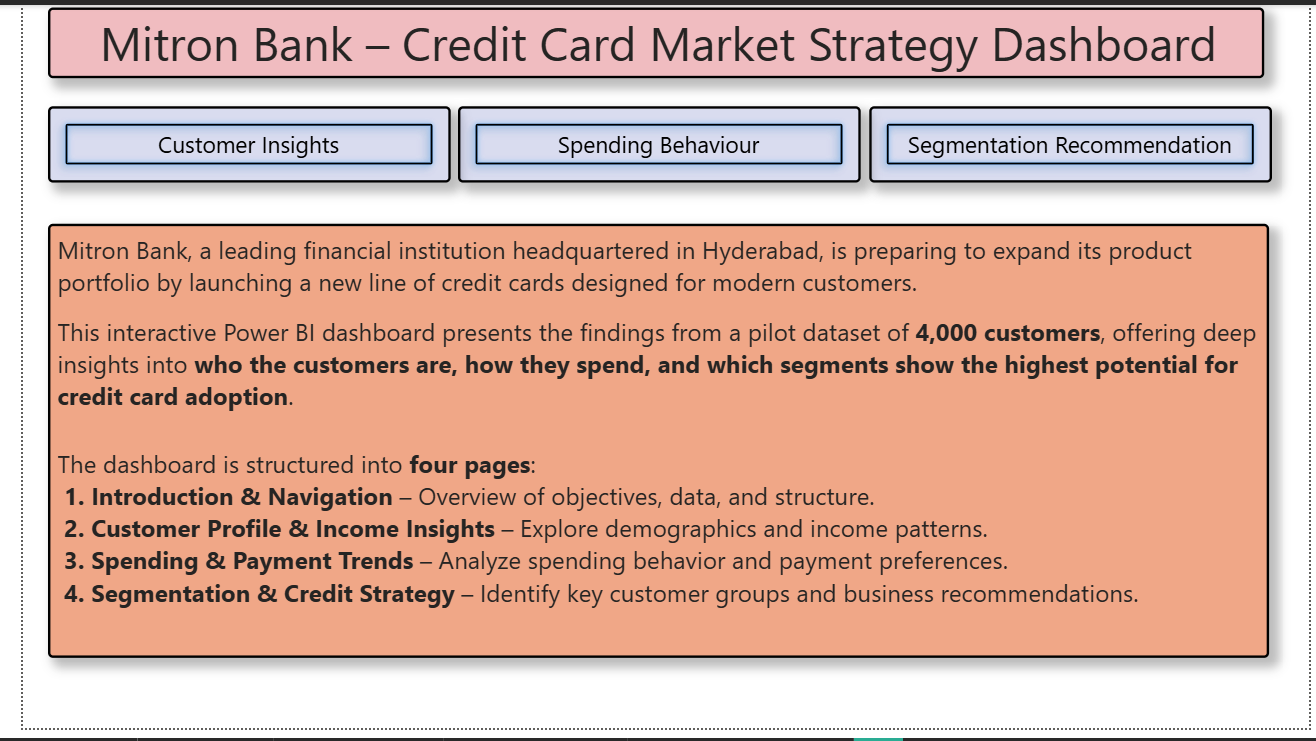

What the dashboard file says about the page in this screenshot:
{"tool":"powerbi","page":{"name":"Introduction","canvas":[1280,720],"ordinal":0},"visuals":[{"type":"textbox","title":"Mitron Bank – Credit Card Market Strategy Dashboard","box":[25,3,1210,70],"z":0,"group":"g1"},{"type":"group","id":"g1","title":"Group 1","box":[25,3,1210,70],"z":0},{"type":"shape","box":[24.9,100.8,400.6,75.9],"z":1000},{"type":"shape","box":[842.2,100.8,400.6,75.9],"z":2000},{"type":"shape","box":[432.9,100.8,400.6,75.9],"z":3000},{"type":"textbox","box":[24.9,217.7,1215.3,431.7],"z":4000}]}

Visuals, with their boxes in screenshot pixels (x1, y1, x2, y2), scaled from the page's 1280x720 canvas onto the 1316x741 screenshot:
"Mitron Bank – Credit Card Market Strategy Dashboard" textbox: 26,3,1270,75
"Group 1" group: 26,3,1270,75
shape: 26,104,437,182
shape: 866,104,1278,182
shape: 445,104,857,182
textbox: 26,224,1275,668
